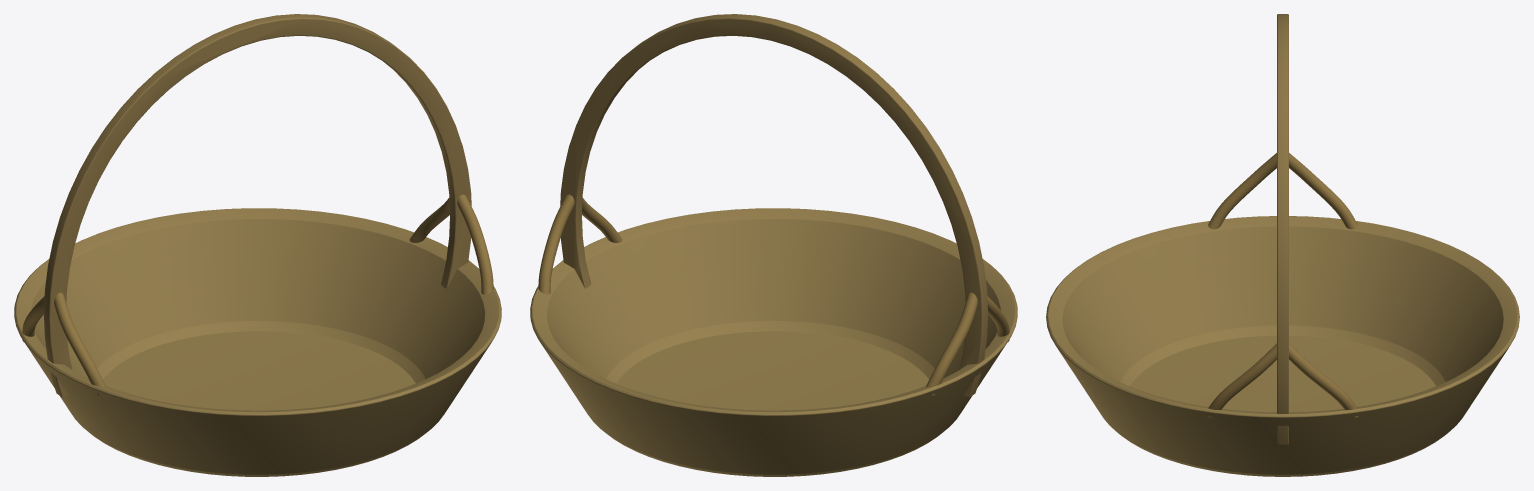
The model's file is ball_basket__0224d9084cf9.glb.
3 views of the same model, side by side, from view 1: azimuth 30°, elevation 25°; view 2: azimuth 150°, elevation 25°; view 3: azimuth 270°, elevation 25° (orthographic). The views are drawn at different scales.
Parts seen in each view (by area): view 1: bowl_wall, band, brace, brace.002, brace.001; view 2: bowl_wall, band, brace.001, brace.003, brace; view 3: bowl_wall, band, brace.002, brace.003, brace, brace.001.
Part boxes in pixels (box(x1,y1,x2,y2)): bowl_wall: box(14, 208, 501, 476); band: box(44, 14, 471, 397); brace: box(457, 194, 493, 294); brace.002: box(54, 292, 105, 395); brace.001: box(409, 198, 449, 242); bowl_wall: box(530, 208, 1017, 476); band: box(560, 14, 987, 397); brace.001: box(538, 194, 574, 294); brace.003: box(926, 292, 977, 395); brace: box(582, 198, 622, 242); bowl_wall: box(1046, 216, 1519, 476); band: box(1277, 14, 1288, 444); brace.002: box(1208, 153, 1276, 229); brace.003: box(1289, 153, 1357, 229); brace: box(1207, 343, 1276, 418); brace.001: box(1289, 343, 1358, 418).
Size of the model in its own units: 0.4 by 0.346 by 0.3995.
